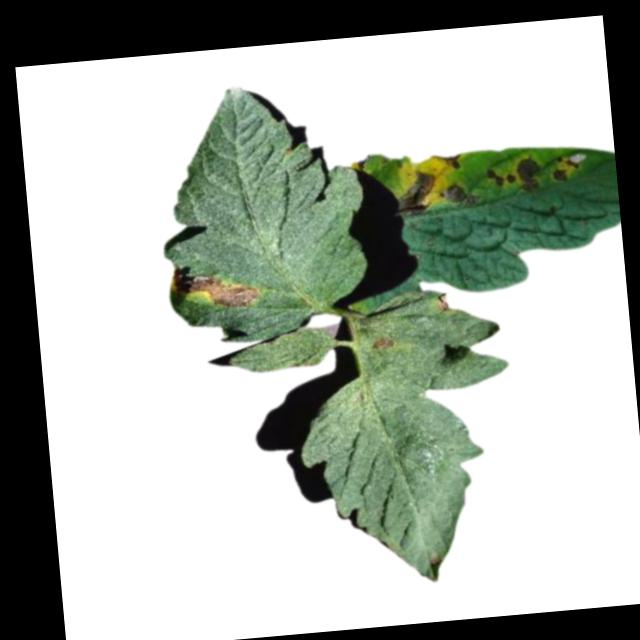Early_blight: (167, 255, 272, 311), (392, 170, 438, 217), (514, 150, 545, 192), (549, 146, 584, 181), (485, 161, 516, 189), (444, 181, 474, 207), (434, 149, 465, 173), (374, 332, 402, 352), (436, 290, 454, 312)
